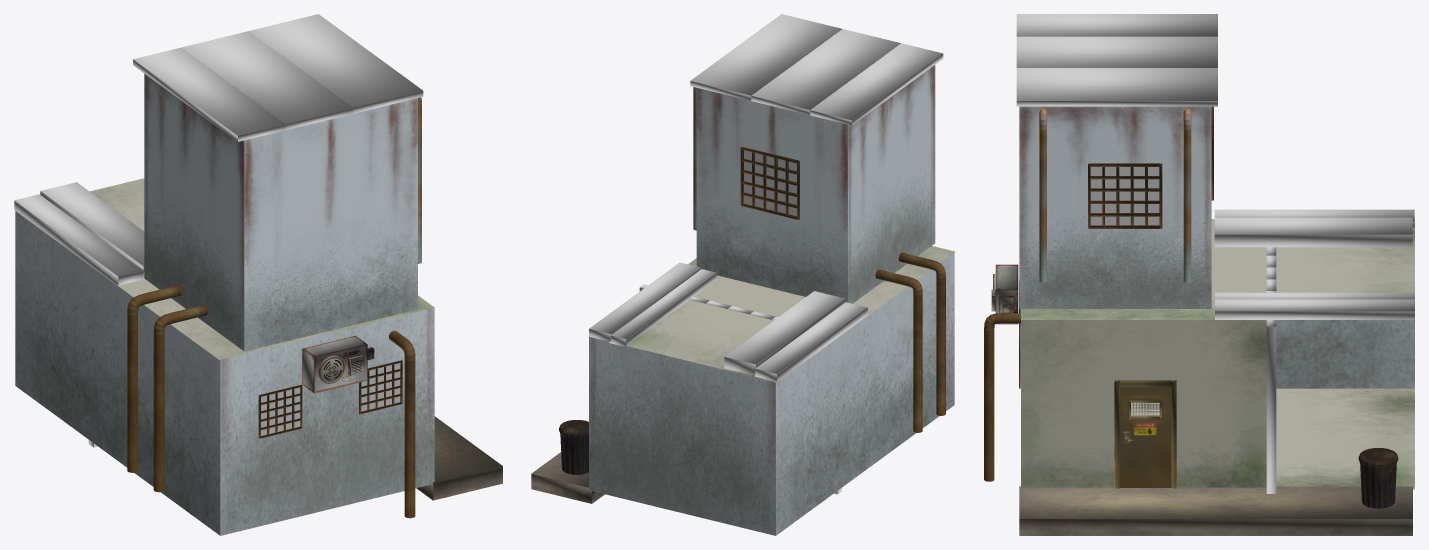
Rendered from Nha 2.1.fbx.
3 renders of one model, left to right at view 1: azimuth 30°, elevation 25°; view 2: azimuth 150°, elevation 25°; view 3: azimuth 270°, elevation 25°, orthographic. The views are drawn at different scales.
Visible parts, largest first — view 1: tuong vang 2.008; view 2: tuong vang 2.008; view 3: tuong vang 2.008.
Part boxes in pixels (box(x1,y1,x2,y2)): tuong vang 2.008: box(14, 14, 502, 535); tuong vang 2.008: box(531, 14, 955, 535); tuong vang 2.008: box(984, 14, 1414, 535).
Bounding box in the file's own units: 658 × 841 × 827.
